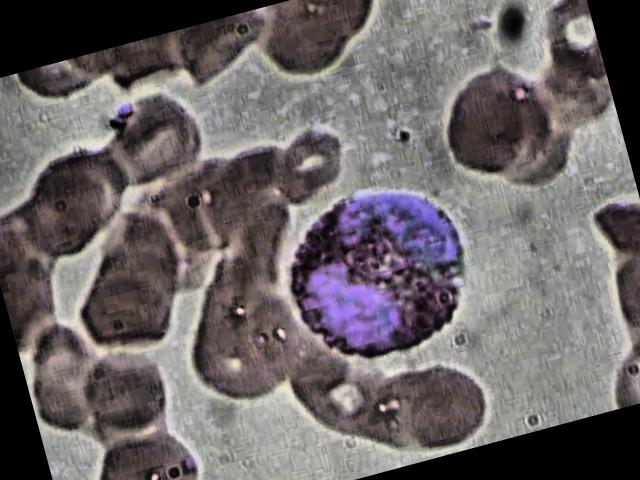Platelets: (100, 96, 138, 132)
RBC: (172, 282, 318, 415), (427, 56, 564, 184), (391, 349, 497, 456), (80, 336, 186, 442), (9, 159, 114, 265), (252, 0, 358, 92), (80, 416, 217, 480), (268, 118, 352, 206)
WBC: (258, 157, 502, 387)
